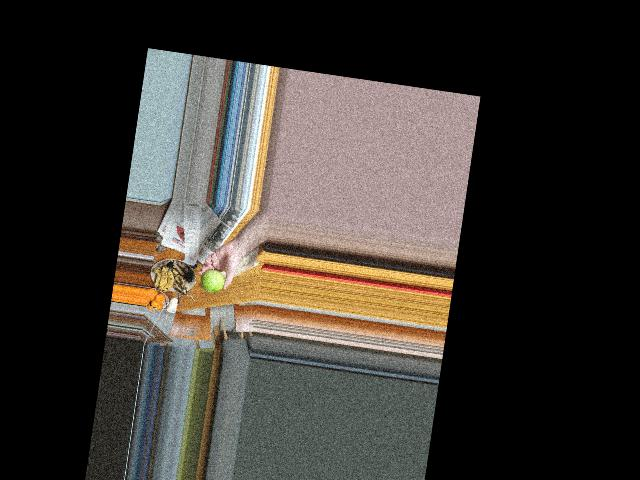apple: (200, 265, 228, 297)
